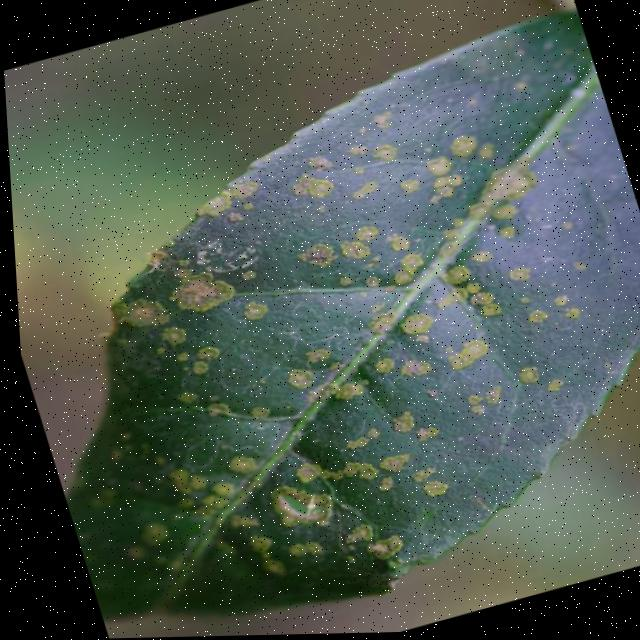Tea algae leaf spot: (30, 104, 635, 640)
